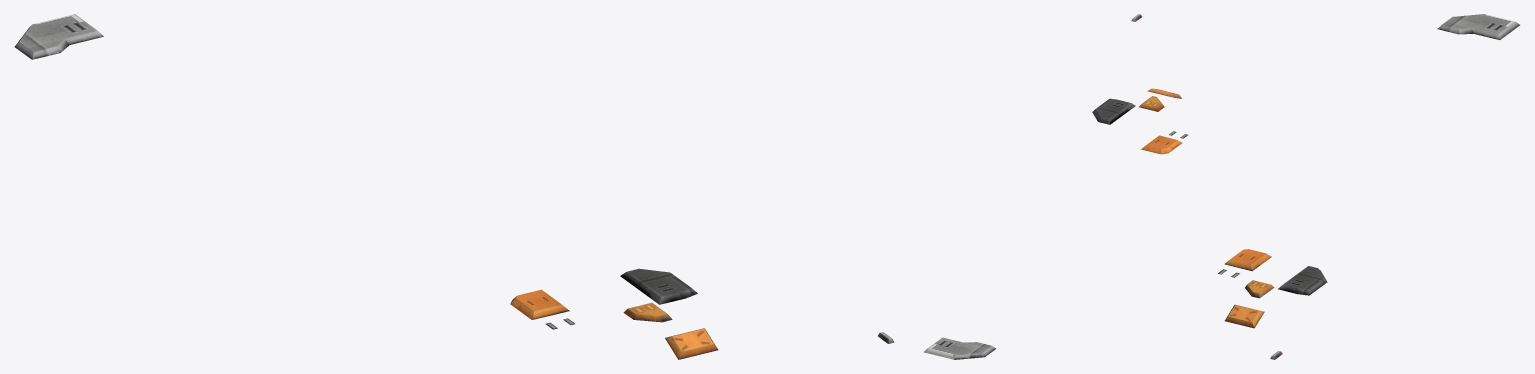
The model's file is hgn_flagship_explorer_02_tiirshak.glb.
3 views of the same model, side by side, from view 1: azimuth 30°, elevation 25°; view 2: azimuth 150°, elevation 25°; view 3: azimuth 330°, elevation 25° (orthographic). The views are drawn at different scales.
Visible parts, largest first — view 1: hgn_flagship_explorer_01_tirshak_LOD0; view 2: hgn_flagship_explorer_01_tirshak_LOD0; view 3: hgn_flagship_explorer_01_tirshak_LOD0.
Boxes of the visible parts, <box> form: hgn_flagship_explorer_01_tirshak_LOD0: <box>14,14,894,359</box>; hgn_flagship_explorer_01_tirshak_LOD0: <box>924,14,1187,359</box>; hgn_flagship_explorer_01_tirshak_LOD0: <box>1218,14,1519,359</box>.
Size of what is drawn, in the model's own units: 2.05 by 0.2497 by 6.3.
Materials: 1 (1 with a texture image).
